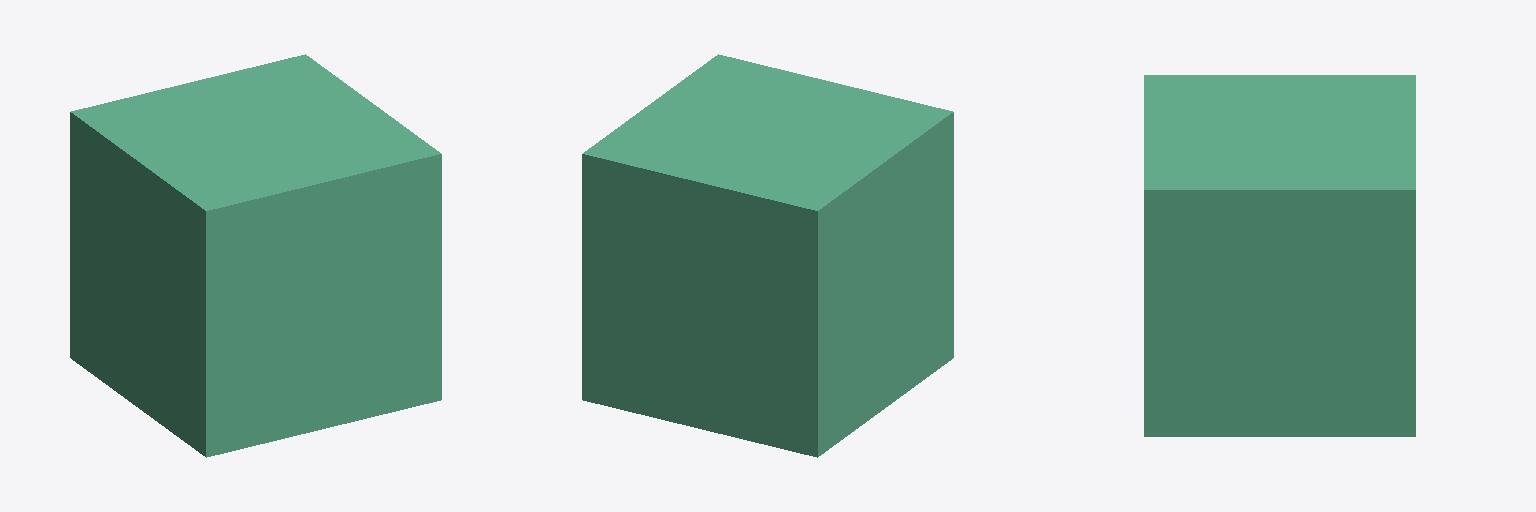
3 renders of one model, left to right at view 1: azimuth 30°, elevation 25°; view 2: azimuth 150°, elevation 25°; view 3: azimuth 270°, elevation 25°, orthographic.
Parts seen in each view (by area): view 1: Cube; view 2: Cube; view 3: Cube.
Boxes of the visible parts, box(x1,y1,x2,y2) form: Cube: box(70, 54, 441, 457); Cube: box(582, 54, 953, 457); Cube: box(1144, 75, 1415, 436).
Size of the model in its own units: 10.99 by 10.99 by 10.99.
1 materials, 1 textured.